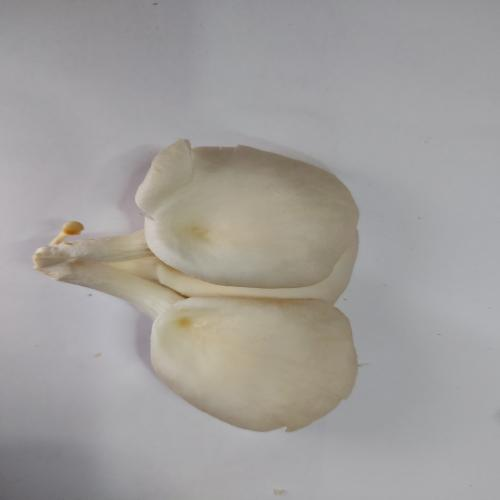Oyster Mushroom: (32, 137, 362, 433)
